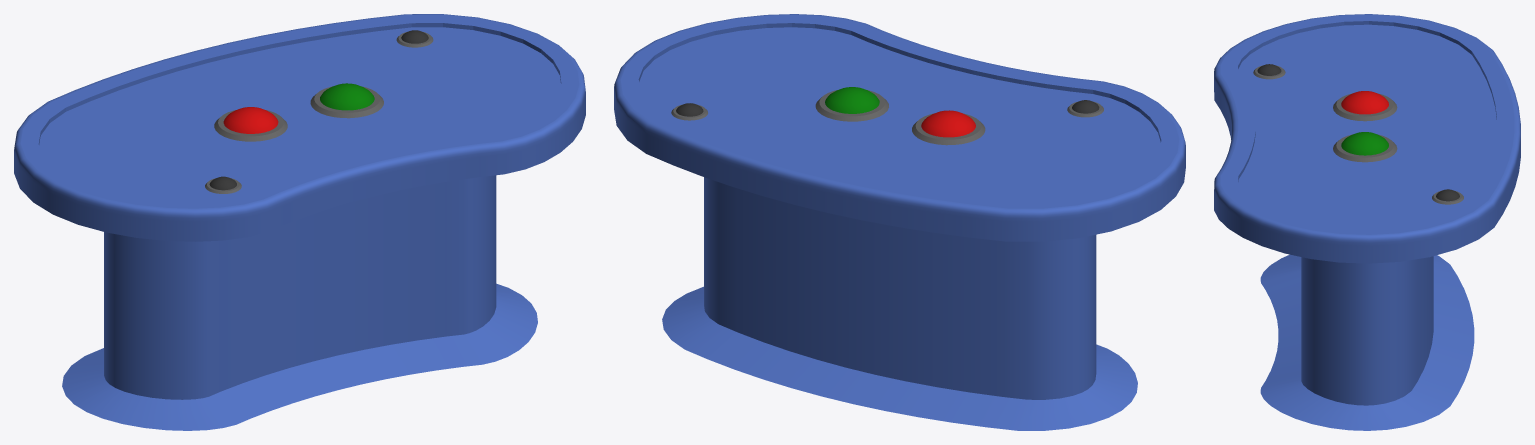
Rendered from lobby 테이블.FBX.
The picture shows the model from 3 angles, left to right: view 1: azimuth 30°, elevation 25°; view 2: azimuth 150°, elevation 25°; view 3: azimuth 270°, elevation 25°; orthographic projection. The views are drawn at different scales.
Visible parts, largest first — view 1: Cylinder031, Shape003, Shape004, Circle002, Circle001; view 2: Cylinder031, Shape004, Shape003, Circle001, Circle002; view 3: Cylinder031, Shape004, Shape003, Circle002, Circle001.
Part boxes in pixels (x1,y1,x2,y2): Cylinder031: (14, 14, 585, 430); Shape003: (320, 83, 374, 110); Shape004: (223, 107, 278, 133); Circle002: (214, 110, 287, 141); Circle001: (310, 86, 383, 118); Cylinder031: (614, 14, 1185, 430); Shape004: (921, 110, 975, 137); Shape003: (825, 87, 879, 113); Circle001: (815, 90, 888, 121); Circle002: (912, 113, 985, 145); Cylinder031: (1214, 14, 1520, 430); Shape004: (1341, 91, 1388, 114); Shape003: (1341, 132, 1388, 155); Circle002: (1333, 93, 1397, 121); Circle001: (1333, 134, 1397, 162).
Bounding box in the file's own units: 458 × 210 × 264.
